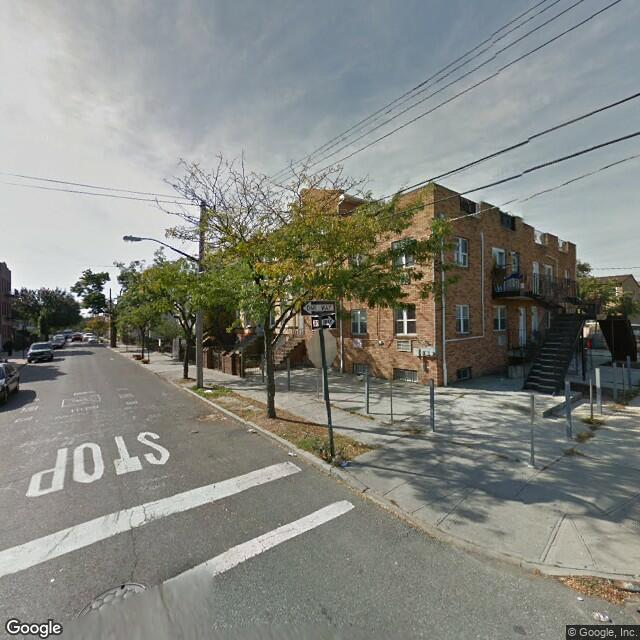litter: (591, 610, 610, 621), (338, 460, 352, 467), (248, 428, 259, 435), (289, 450, 298, 457), (577, 596, 587, 602), (202, 388, 214, 393)
